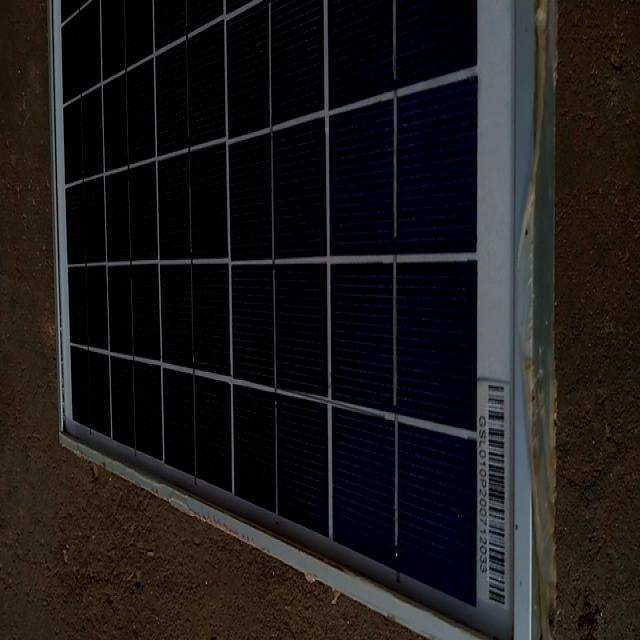Normal Solar Panel: (50, 1, 536, 637)
